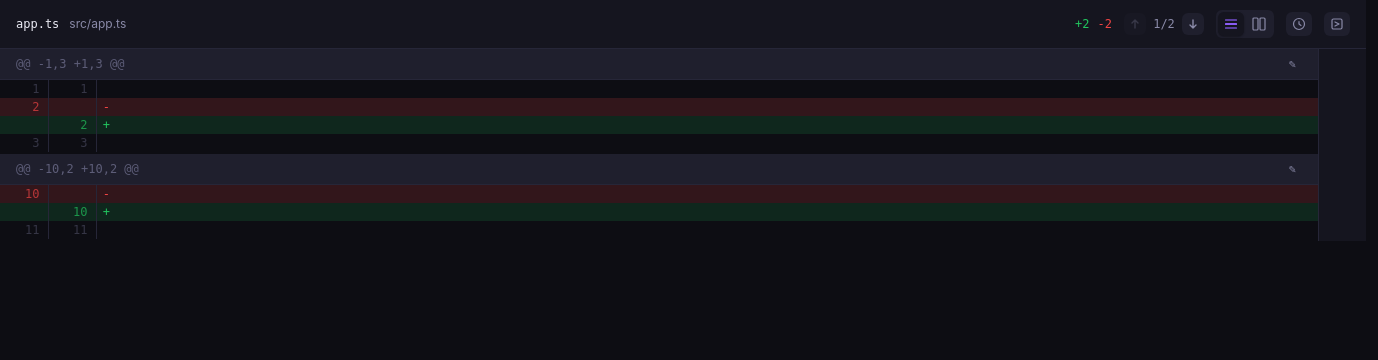
Test: DiffViewer — the edit row › opens one editor, seeded with the hunk's post-image
Click the button with class "hunk-edit-btn" in the row of "@@ -1,3 +1,3 @@" at (1292, 64), box [1283,57,1302,71]
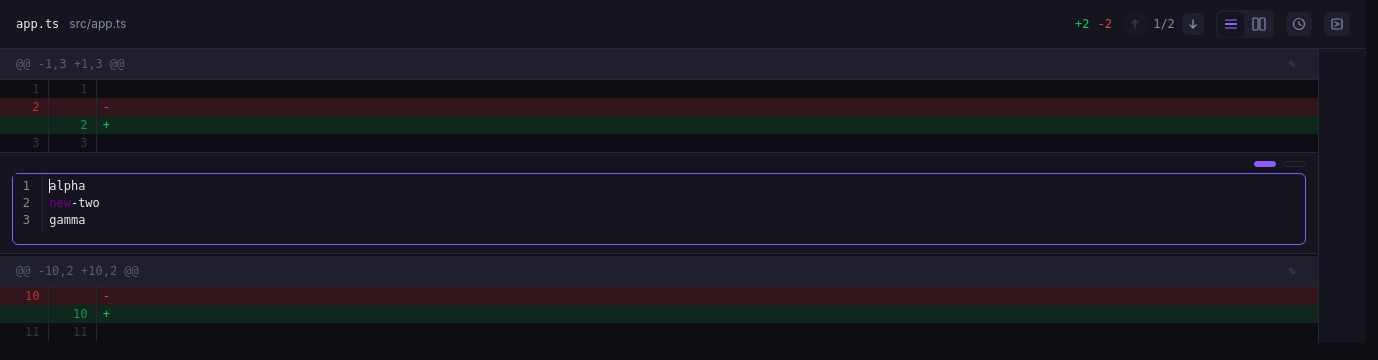
Result: the row with class "diff-edit-row" is shown at [0,152,1318,254]
